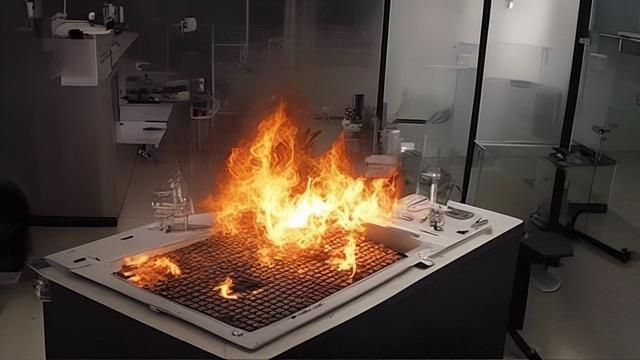fire: (129, 115, 408, 282)
